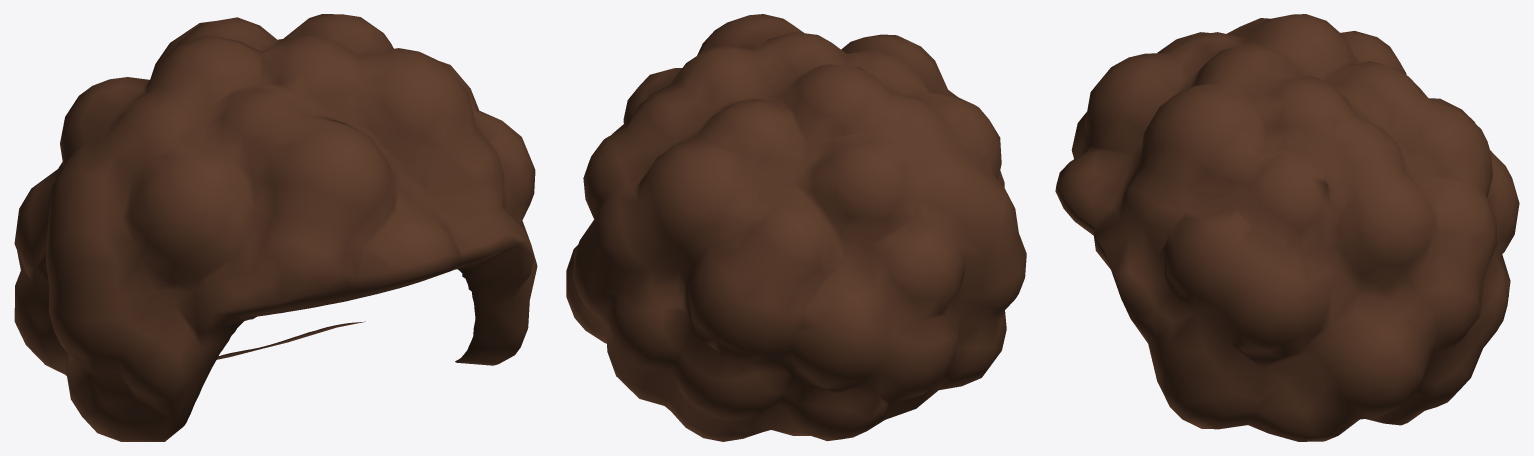
The model's file is hair_afro.glb.
3 renders of one model, left to right at view 1: azimuth 30°, elevation 25°; view 2: azimuth 150°, elevation 25°; view 3: azimuth 270°, elevation 25°, orthographic. The views are drawn at different scales.
Parts seen in each view (by area): view 1: hair_afro; view 2: hair_afro; view 3: hair_afro.
Boxes of the visible parts, <box> form: hair_afro: <box>14,14,537,441</box>; hair_afro: <box>566,14,1026,441</box>; hair_afro: <box>1055,14,1519,441</box>.
Bounding box in the file's own units: 0.819 × 0.6438 × 0.7729.
Materials: 1 (1 with a texture image).
